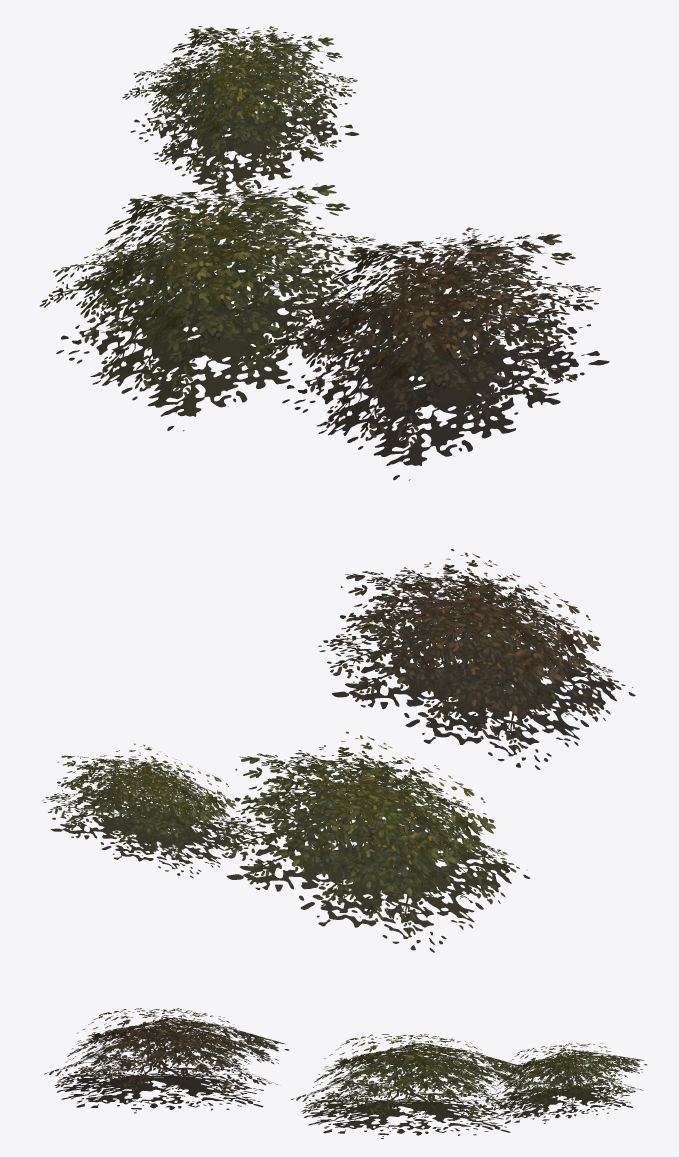
File: plants_bushes05.fbx
3 views of the same model, one above another, from view 1: azimuth 30°, elevation 25°; view 2: azimuth 150°, elevation 25°; view 3: azimuth 270°, elevation 25° (orthographic). The views are drawn at different scales.
Parts seen in each view (by area): view 1: obj1.044; view 2: obj1.044; view 3: obj1.044.
Boxes of the visible parts, left/top/right/bottom form: obj1.044: left=39, top=26, right=609, bottom=480; obj1.044: left=42, top=549, right=635, bottom=952; obj1.044: left=44, top=1008, right=646, bottom=1138.
Bounding box in the file's own units: 6.33 × 3.11 × 12.15.
